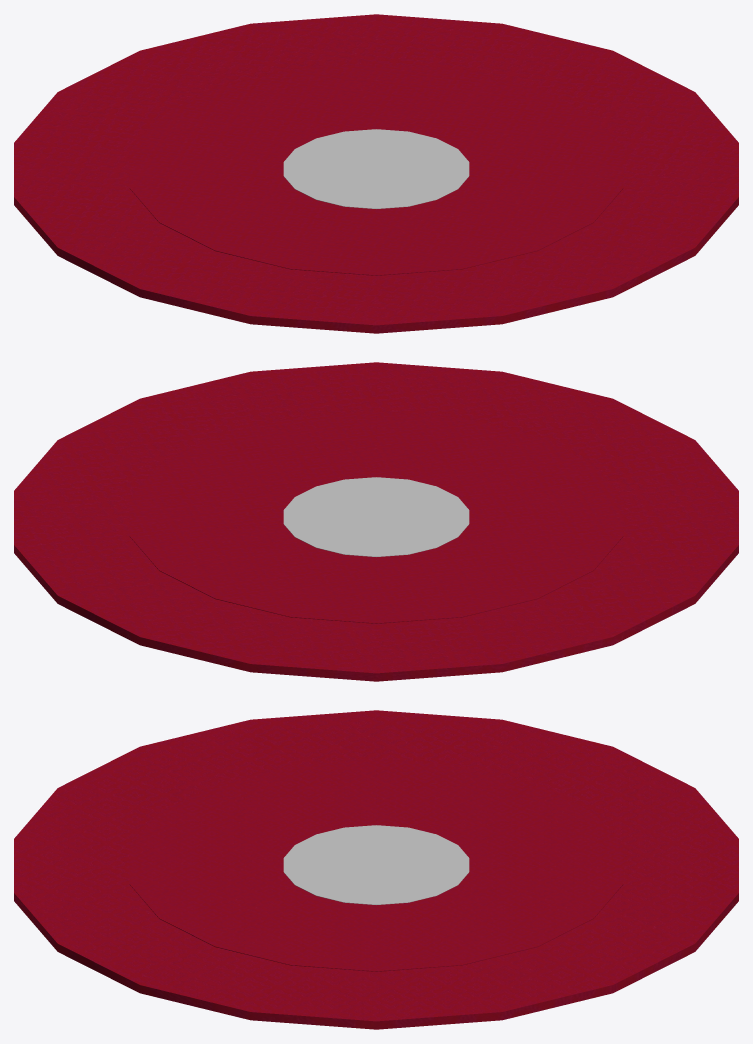
The model's file is AlfombraOval.fbx.
3 views of the same model, one above another, from view 1: azimuth 30°, elevation 25°; view 2: azimuth 150°, elevation 25°; view 3: azimuth 270°, elevation 25° (orthographic).
Parts seen in each view (by area): view 1: Cylinder015; view 2: Cylinder015; view 3: Cylinder015.
Part boxes in pixels (x1,y1,x2,y2): Cylinder015: [14, 14, 738, 333]; Cylinder015: [14, 362, 738, 681]; Cylinder015: [14, 710, 738, 1029].
Bounding box in the file's own units: 415 × 6.04 × 409.
